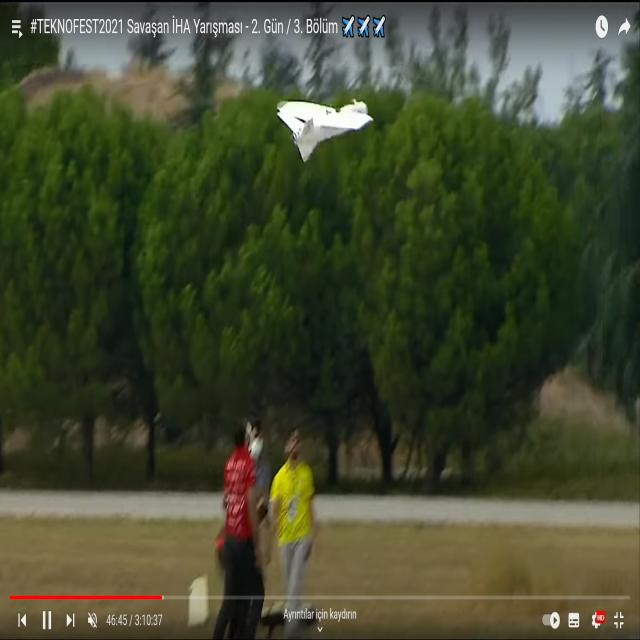iha: (306, 125, 342, 131)
